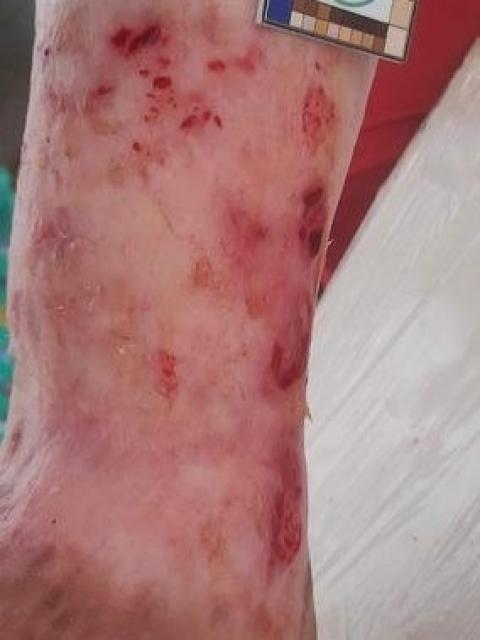wound: (79, 5, 257, 178), (230, 168, 330, 389), (264, 438, 303, 587), (301, 80, 335, 156)
